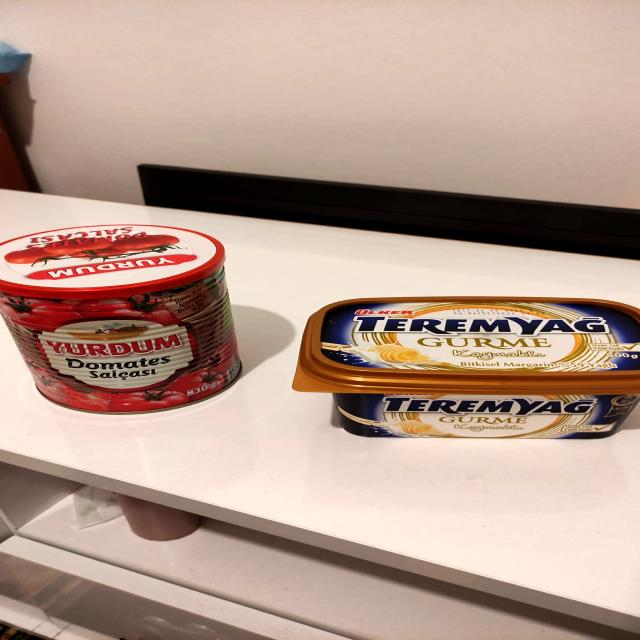margarine: (275, 281, 640, 444)
tomato paste: (0, 216, 252, 416)
